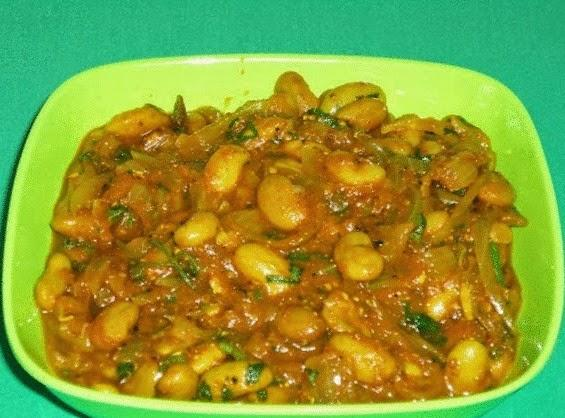rajma: (67, 84, 543, 396)
